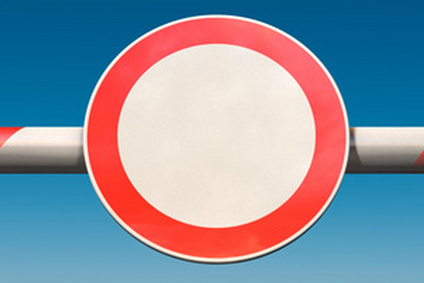no_entry_sign: (84, 14, 349, 264)
